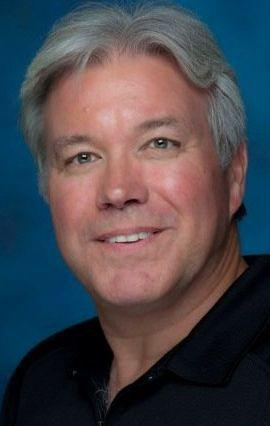bad: (35, 98, 221, 284)
